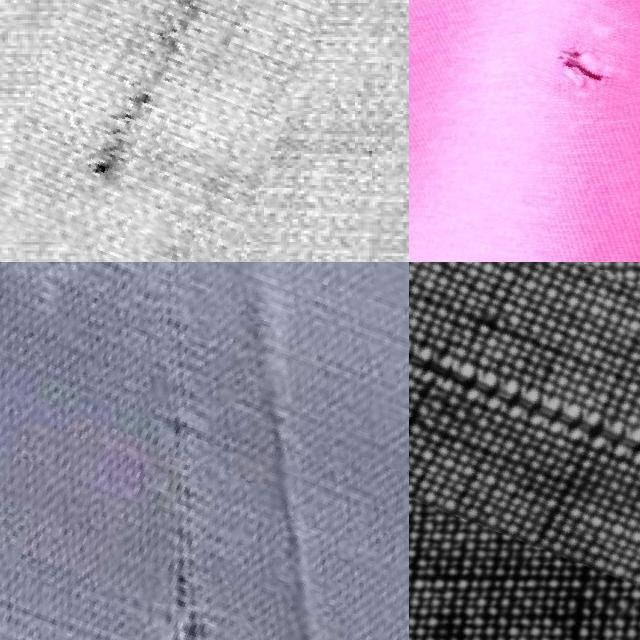Thread_other: (0, 262, 409, 640), (11, 0, 309, 262), (409, 262, 640, 568)
seam: (527, 0, 640, 112)
